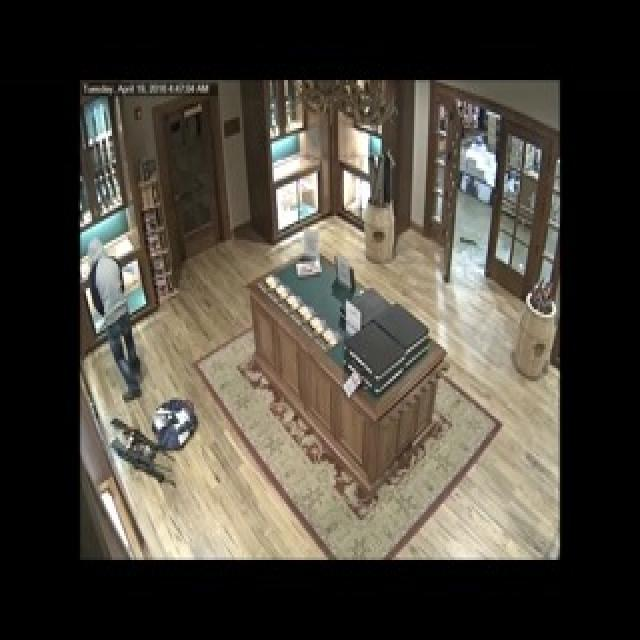thief: (83, 238, 147, 400)
